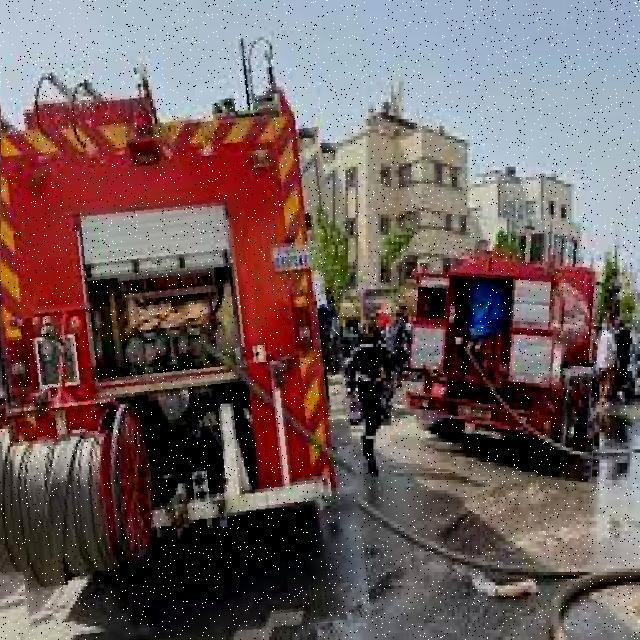pompier: (0, 39, 356, 640), (392, 215, 605, 480)
